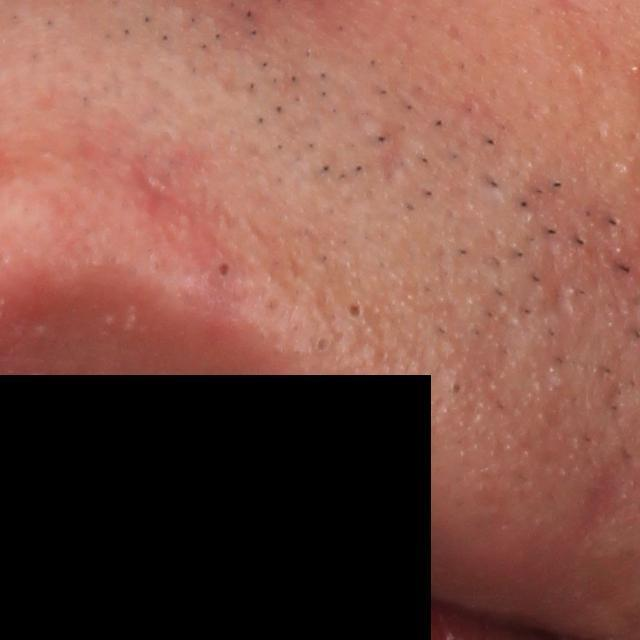atrophic_scar: (572, 449, 636, 544), (374, 117, 409, 192)
comedo: (310, 329, 338, 361), (446, 376, 473, 403), (345, 298, 370, 322), (213, 259, 236, 283)
